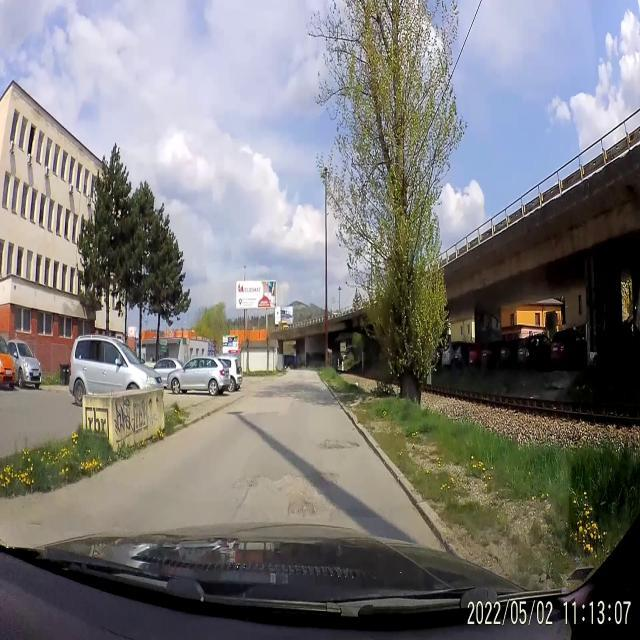Pothole: (316, 430, 361, 458), (306, 462, 340, 494), (284, 494, 322, 522), (234, 469, 258, 494)
